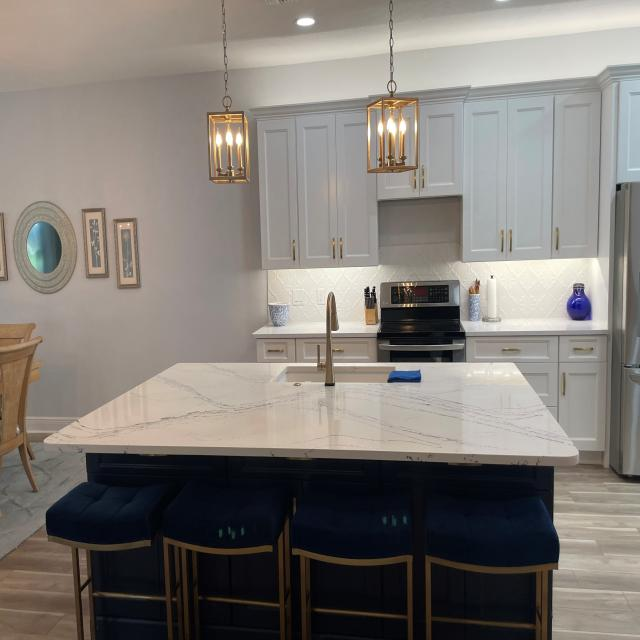Appliance_Fridge: (607, 181, 640, 479)
Appliance_Oven: (376, 281, 469, 365)
Appliance_Sink: (273, 293, 395, 388)
Cabinet_Shaker: (257, 92, 602, 269), (465, 335, 610, 468), (616, 76, 640, 183), (257, 338, 324, 363), (332, 333, 378, 366)
Countertop_Marble: (42, 362, 579, 467), (462, 319, 607, 333), (254, 322, 326, 334), (337, 321, 380, 334)
